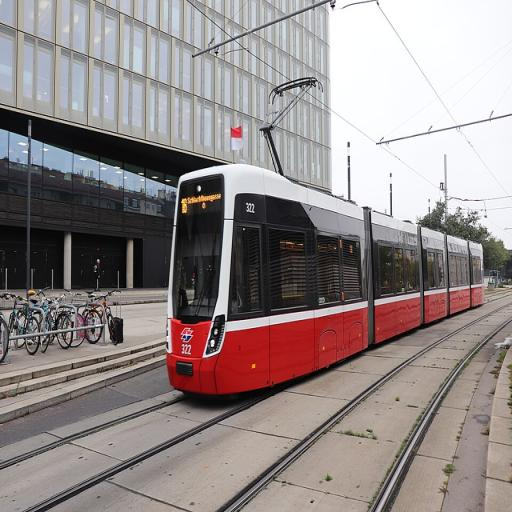Flexity: (165, 160, 486, 405)
